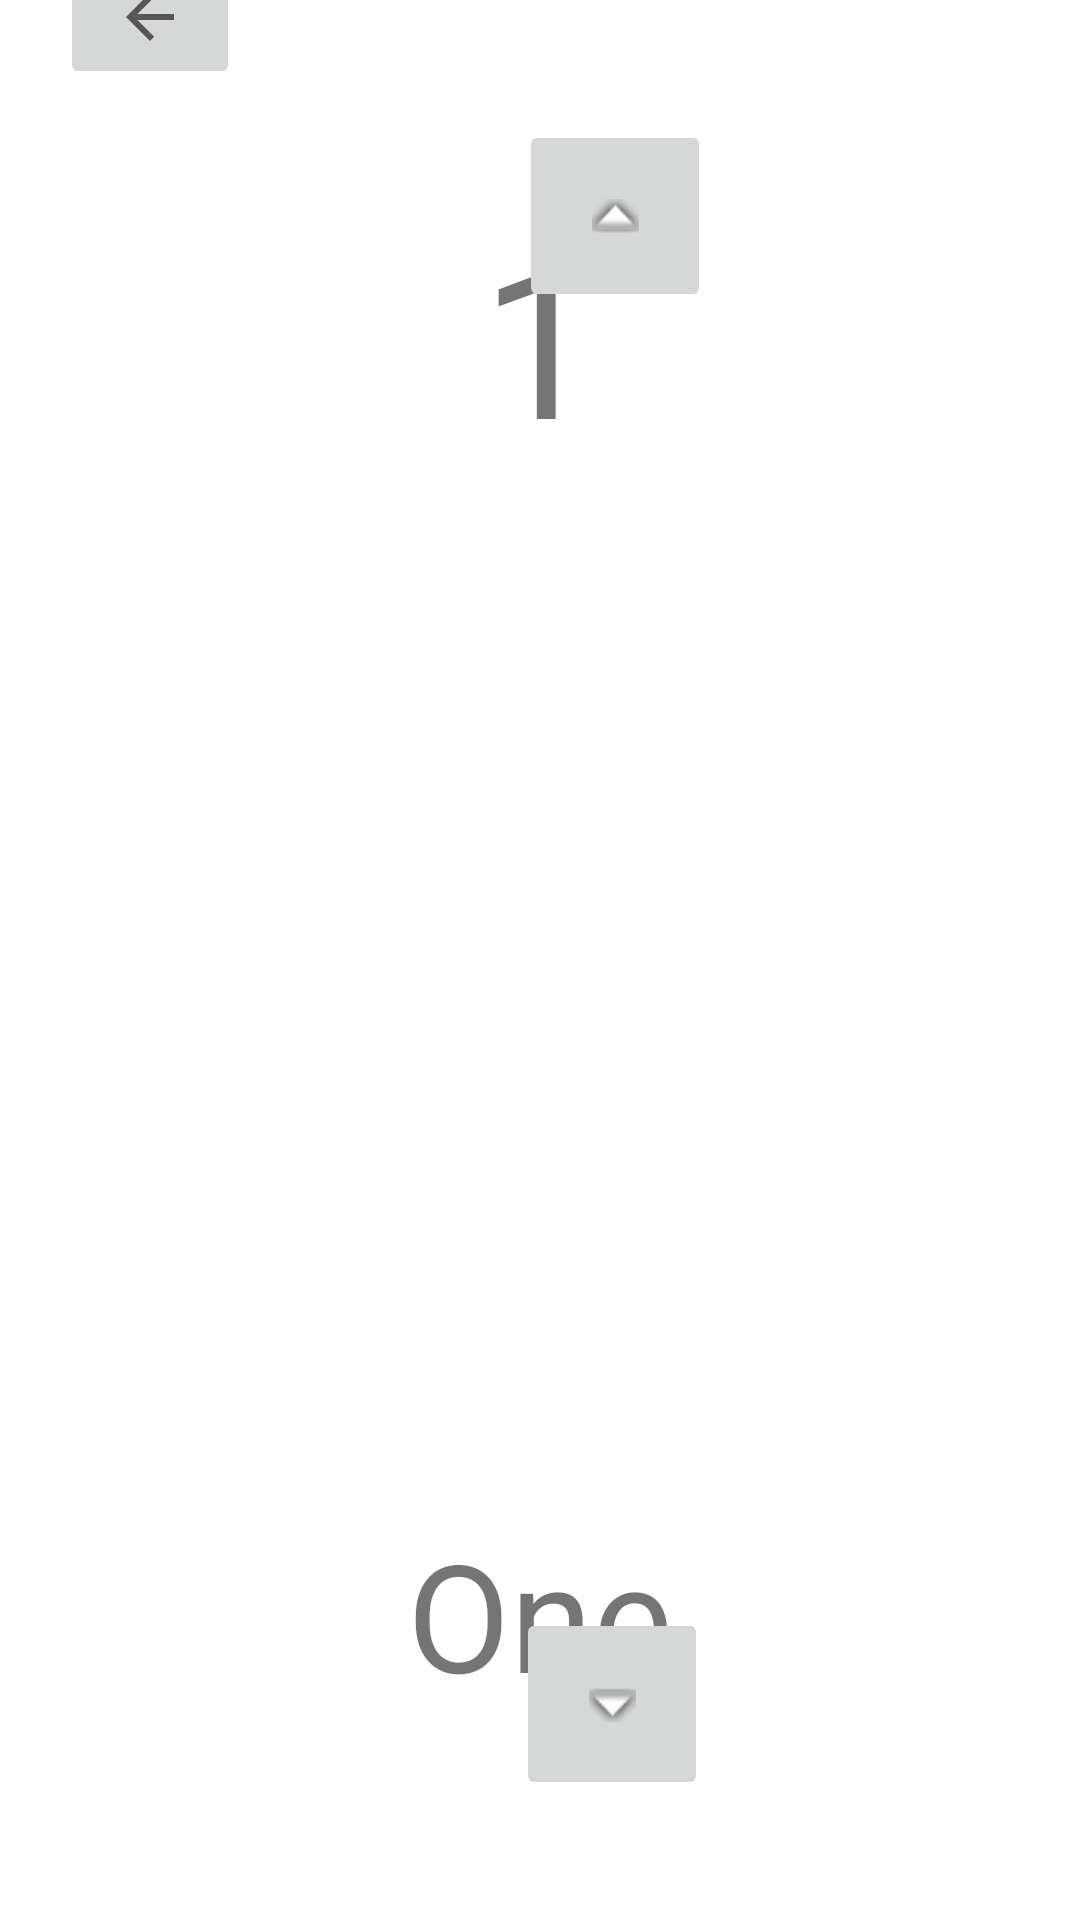

Icons on this 1080*1920 Android screen, each with its box as (x1, y1, x2, y2):
Next Button: (520, 1608, 696, 1782)
Previous Button: (519, 138, 699, 312)
